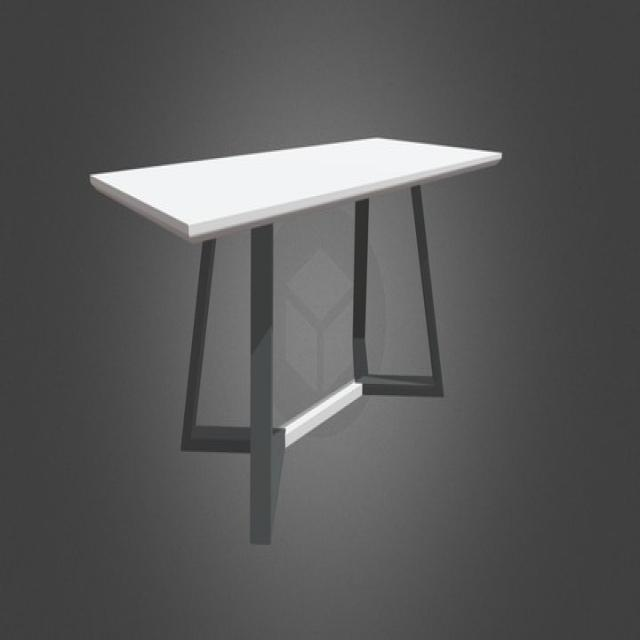table: (92, 133, 504, 547)
